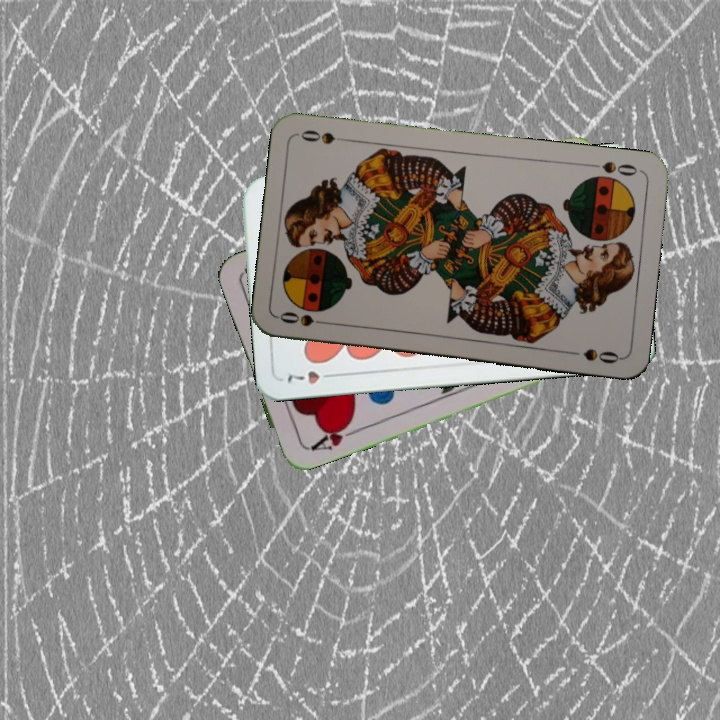H7: (283, 366, 340, 387)
HA: (304, 417, 361, 454)
SO: (275, 307, 335, 329), (584, 157, 643, 179)
